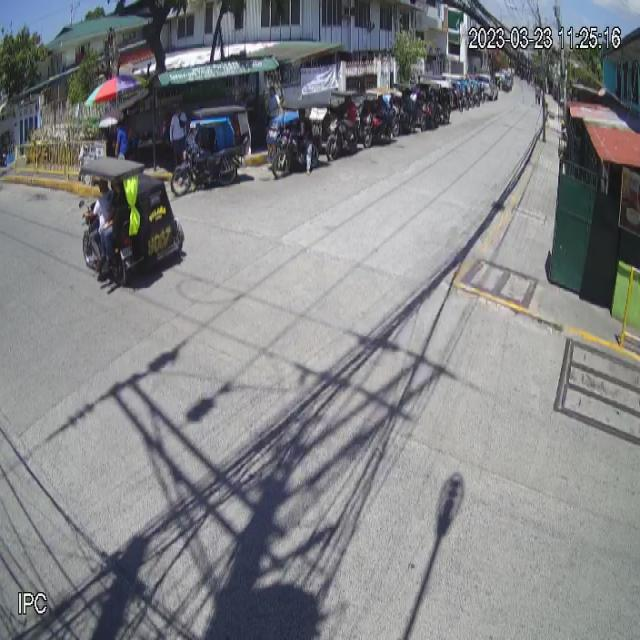Tricycle: (78, 155, 186, 291), (170, 105, 252, 197)
